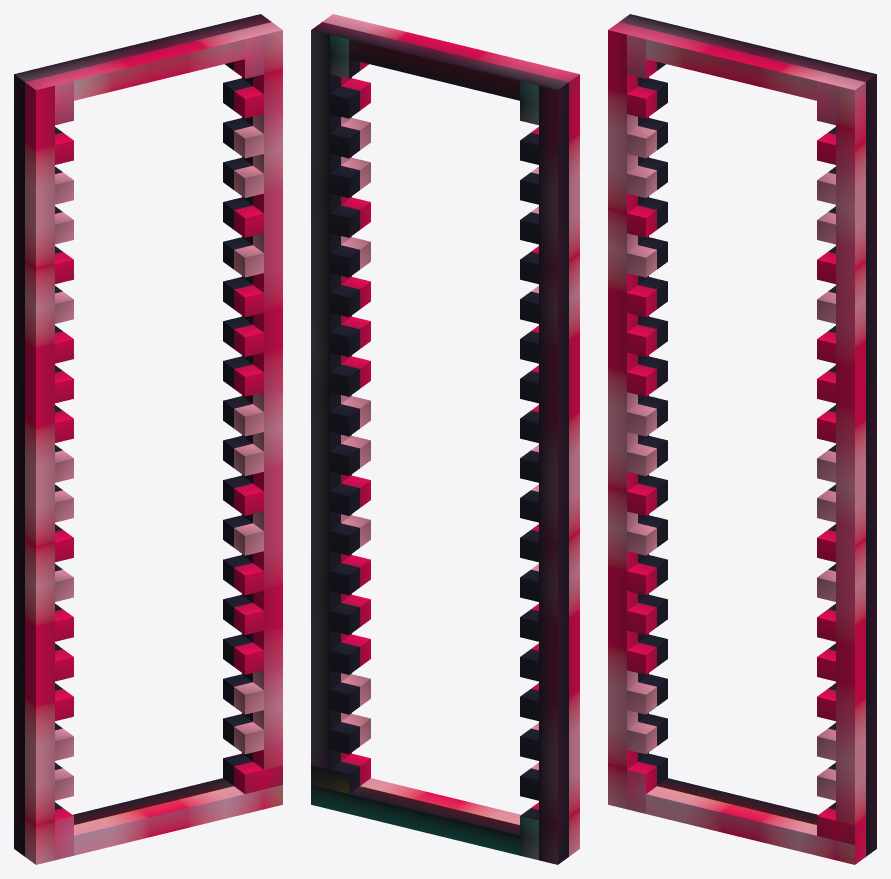
The model's file is BillboardModule_NeonFrame_A_00.fbx.
The picture shows the model from 3 angles, left to right: view 1: azimuth 30°, elevation 25°; view 2: azimuth 150°, elevation 25°; view 3: azimuth 330°, elevation 25°; orthographic projection.
Parts seen in each view (by area): view 1: BillboardModule_NeonFrame_A_00; view 2: BillboardModule_NeonFrame_A_00; view 3: BillboardModule_NeonFrame_A_00.
Part boxes in pixels (x1,y1,x2,y2): BillboardModule_NeonFrame_A_00: (14,14,282,864); BillboardModule_NeonFrame_A_00: (311,14,579,864); BillboardModule_NeonFrame_A_00: (608,14,876,864).
Size of the model in its own units: 65 by 195 by 10.
